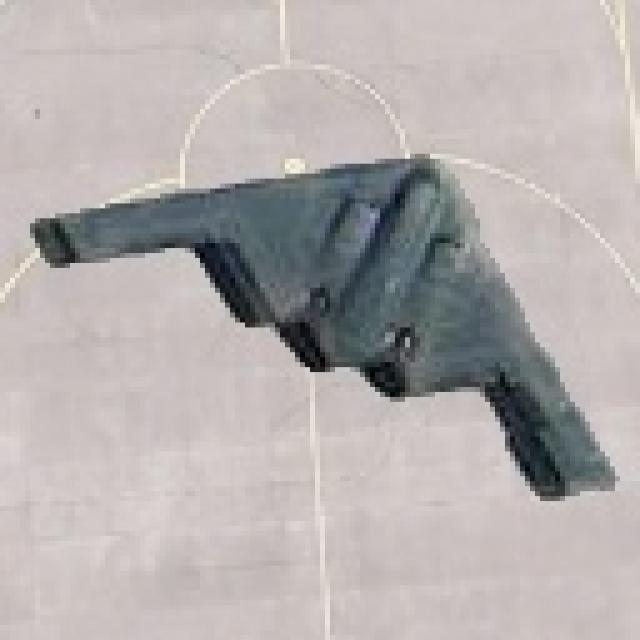B-2_TopDown: (25, 144, 625, 501)
